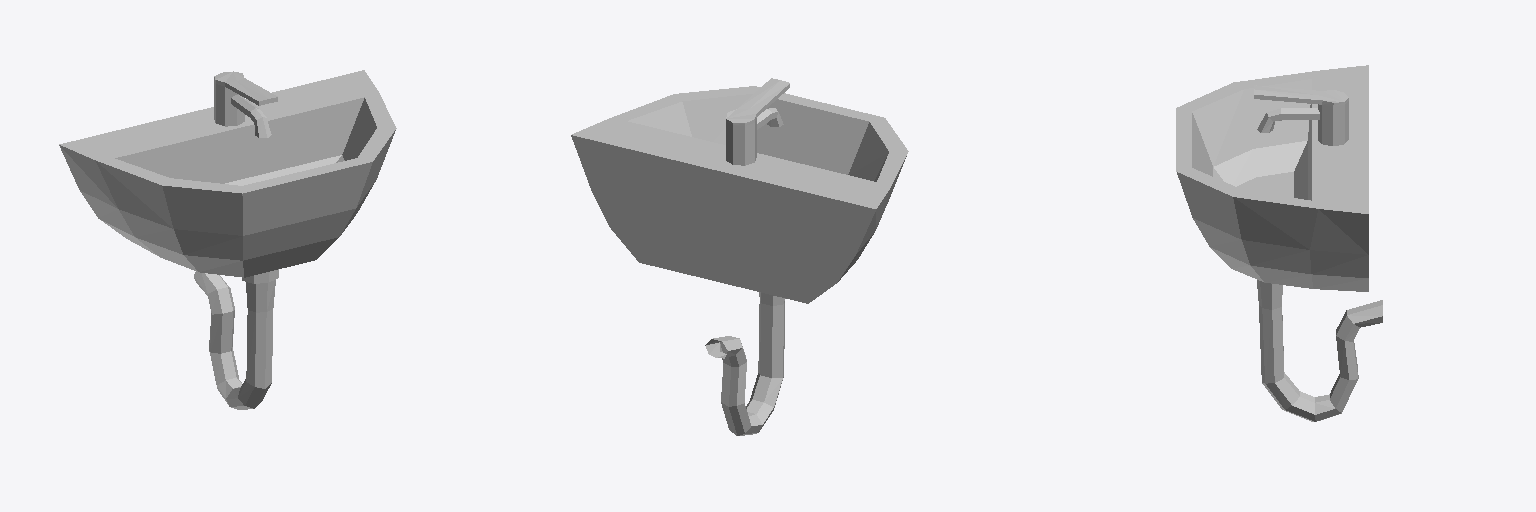
The model's file is Bathroom_Sink.obj.
The picture shows the model from 3 angles: view 1: azimuth 30°, elevation 25°; view 2: azimuth 150°, elevation 25°; view 3: azimuth 270°, elevation 25°; orthographic projection.
Parts seen in each view (by area): view 1: Bathroom_Sink; view 2: Bathroom_Sink; view 3: Bathroom_Sink.
Part boxes in pixels (x1,y1,x2,y2): Bathroom_Sink: (59,70,396,409); Bathroom_Sink: (571,78,908,435); Bathroom_Sink: (1176,65,1382,421).
Size of the model in its own units: 1.39 by 1.45 by 0.8153.